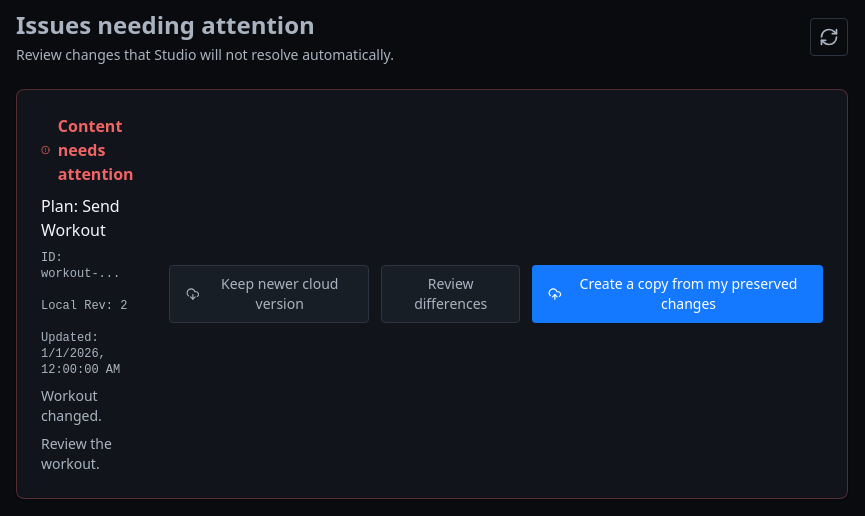
it: Issues needing attention › shows a server validation explanation and keeps its technical reason collapsed
Expected: the text "Workout changed." is shown, 41,386 -> 102,425
Expected: the text "Review the workout." is shown, 41,434 -> 112,473
Click the button "Review differences" at (451, 294), box 381,265 -> 520,323
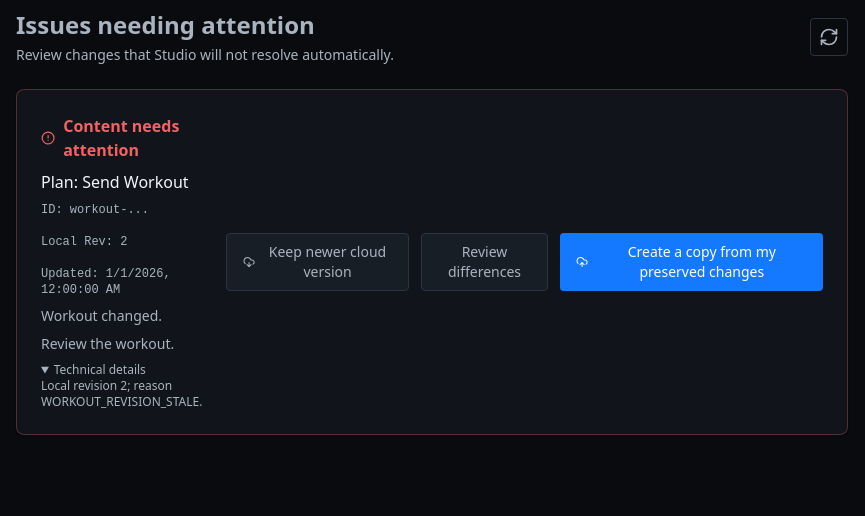
Expected: the text "Local revision 2; reason WORKOUT_REVISION_STALE." is shown, 41,378 -> 202,410
